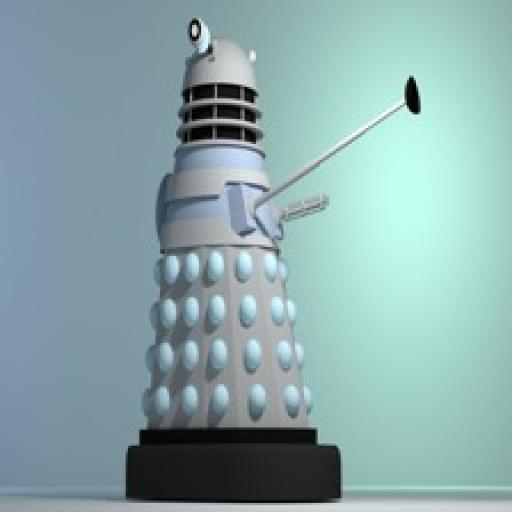dalek: (114, 14, 428, 506)
